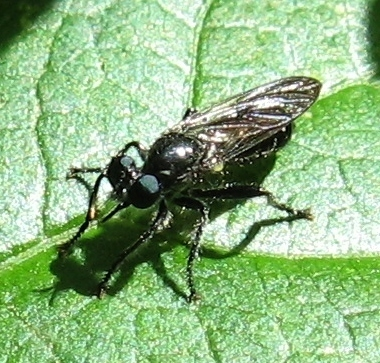not_bumblebee: (58, 75, 322, 303)
